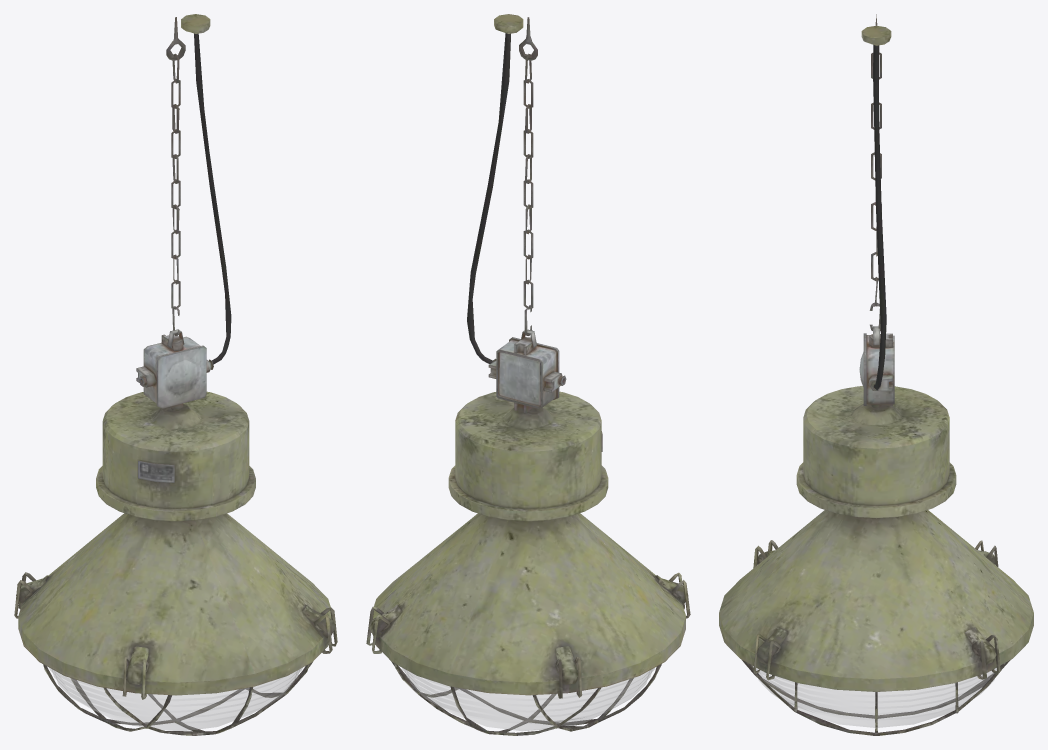
File: pendant-lamp.glb
3 views of the same model, side by side, from view 1: azimuth 30°, elevation 25°; view 2: azimuth 150°, elevation 25°; view 3: azimuth 270°, elevation 25° (orthographic).
Parts seen in each view (by area): view 1: hanging_industrial_lamp; view 2: hanging_industrial_lamp; view 3: hanging_industrial_lamp.
Part boxes in pixels (bbox=[...]): hanging_industrial_lamp: bbox=[14, 14, 337, 735]; hanging_industrial_lamp: bbox=[366, 14, 690, 735]; hanging_industrial_lamp: bbox=[719, 14, 1033, 735].
Size of the model in its own units: 0.5497 by 1.36 by 0.5497.
2 materials, 1 textured.
